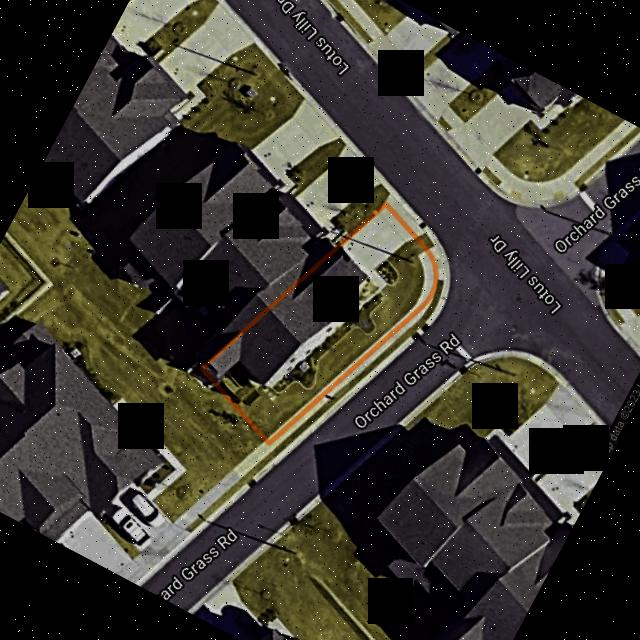Driveway: (341, 212, 410, 278)
Extra Driveway: (387, 193, 425, 233)
House: (210, 249, 378, 408)
Sidewalk: (265, 251, 433, 440)
